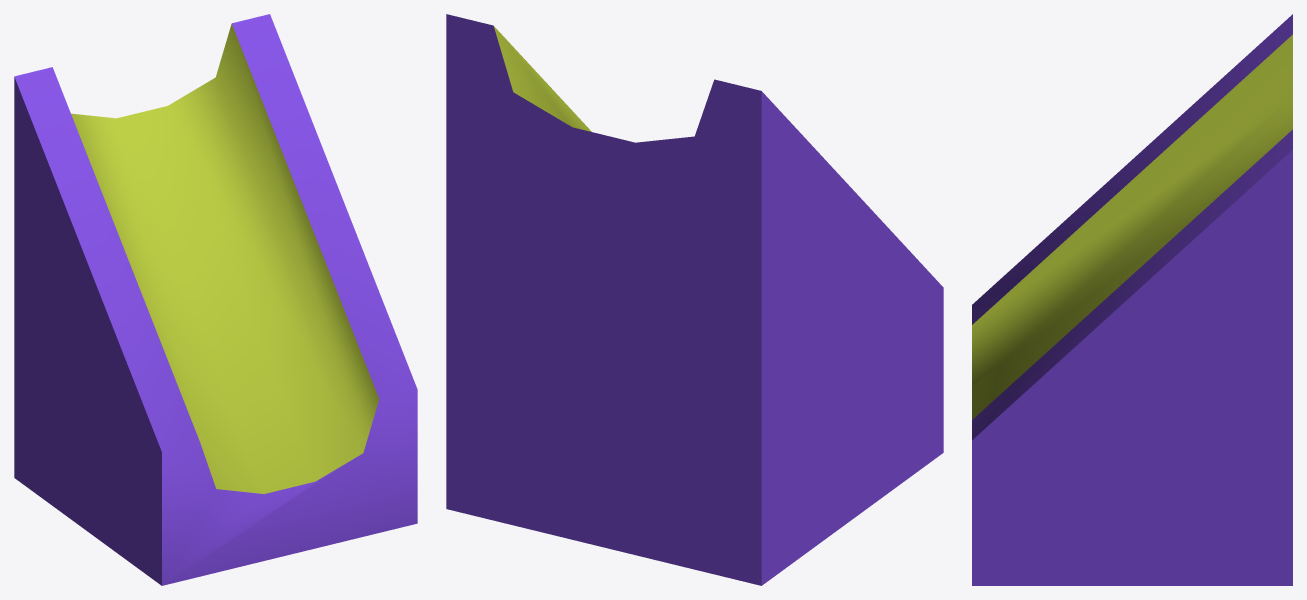
The model's file is slant_solid_C-col.dae.
3 views of the same model, side by side, from view 1: azimuth 30°, elevation 25°; view 2: azimuth 150°, elevation 25°; view 3: azimuth 270°, elevation 25° (orthographic). The views are drawn at different scales.
Visible parts, largest first — view 1: slant_solid_C-col; view 2: slant_solid_C-col; view 3: slant_solid_C-col.
Part boxes in pixels (<box>): slant_solid_C-col: <box>14,14,417,585</box>; slant_solid_C-col: <box>446,14,943,585</box>; slant_solid_C-col: <box>972,14,1292,585</box>.
Bounding box in the file's own units: 1 × 1 × 1.5.
